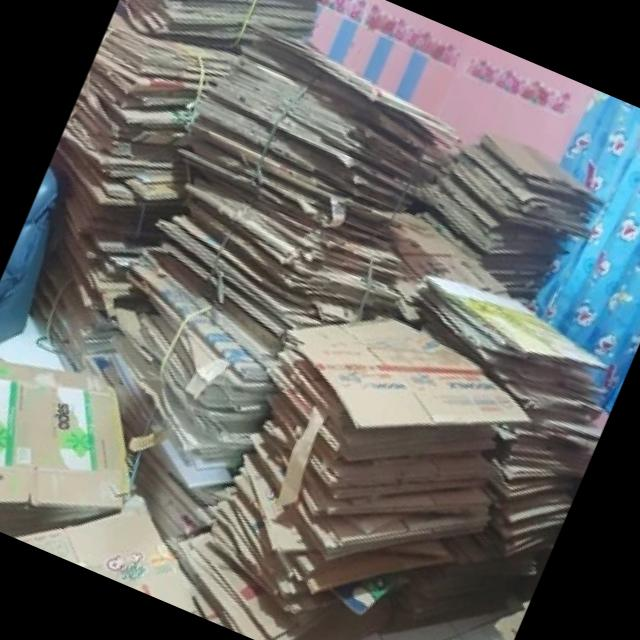Kardus: (0, 0, 640, 640), (0, 322, 168, 571)
